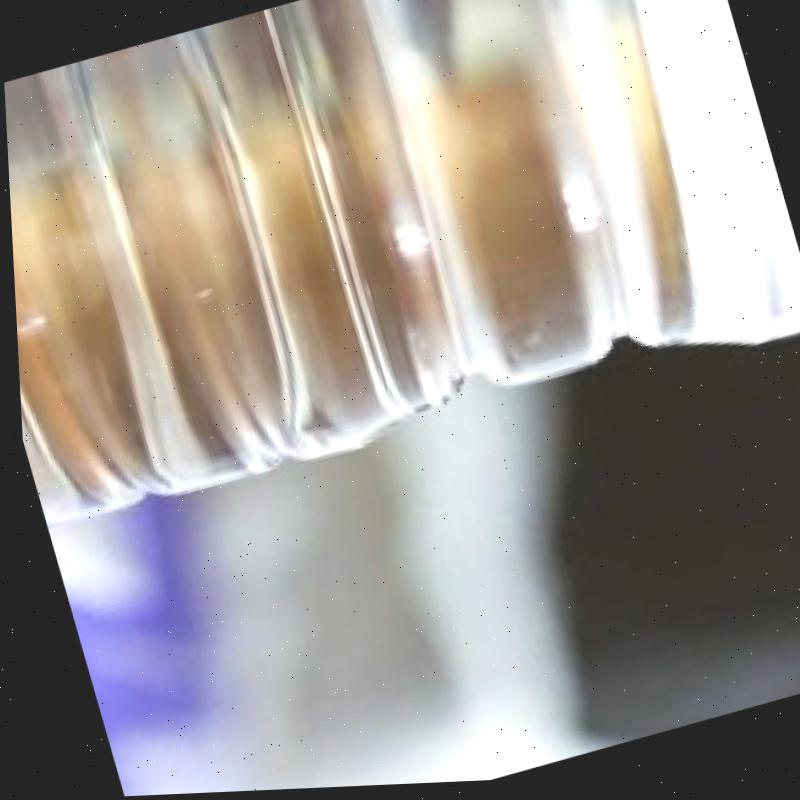botella: (0, 0, 800, 544)
